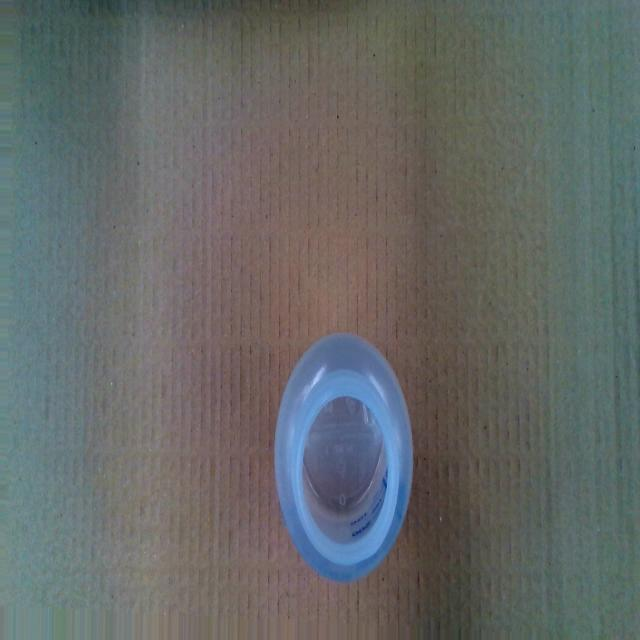bottle: (271, 325, 419, 595)
